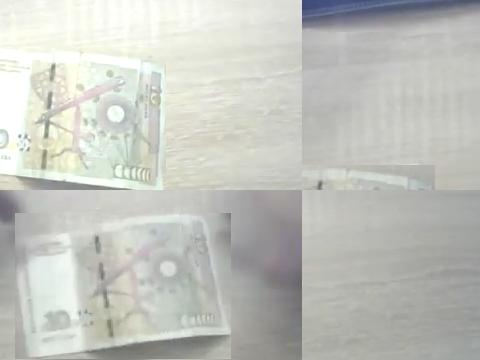10leva: (15, 213, 231, 359), (0, 50, 166, 190)
